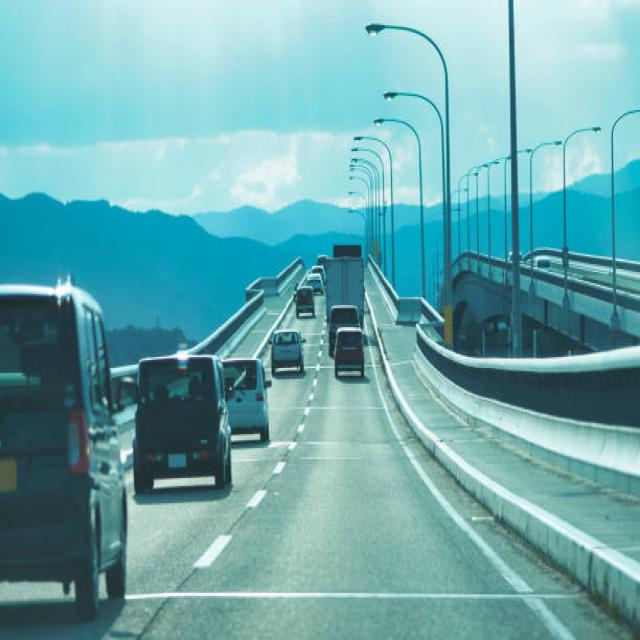Car: (0, 272, 129, 620), (131, 351, 233, 494), (220, 357, 270, 442), (270, 329, 305, 374), (334, 326, 364, 378)
